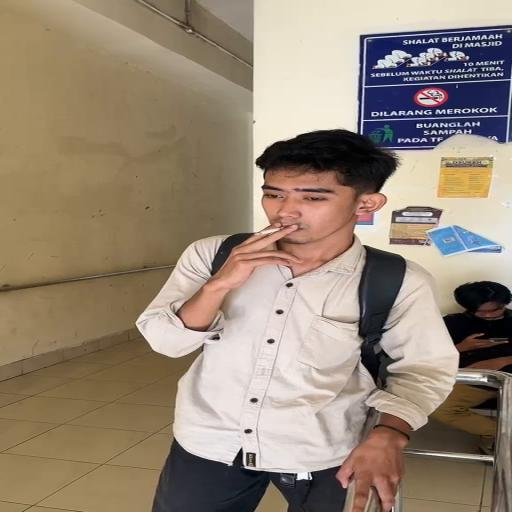merokok: (235, 189, 334, 274)
